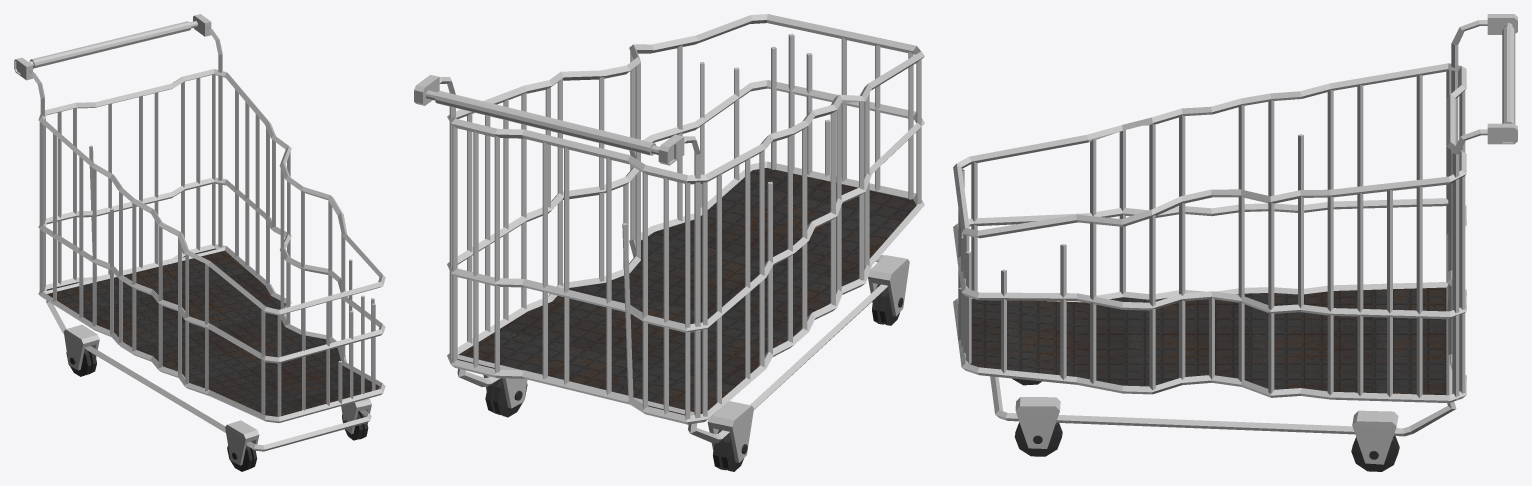
File: SM_Shopping_Cart.fbx
3 renders of one model, left to right at view 1: azimuth 30°, elevation 25°; view 2: azimuth 150°, elevation 25°; view 3: azimuth 270°, elevation 25°, orthographic. The views are drawn at different scales.
Parts seen in each view (by area): view 1: SM_Shopping_Cart; view 2: SM_Shopping_Cart; view 3: SM_Shopping_Cart.
Part boxes in pixels (box(x1,y1,x2,y2)): SM_Shopping_Cart: box(14, 14, 385, 471); SM_Shopping_Cart: box(414, 14, 924, 471); SM_Shopping_Cart: box(953, 14, 1517, 471).
Bounding box in the file's own units: 82.77 × 115 × 169.
